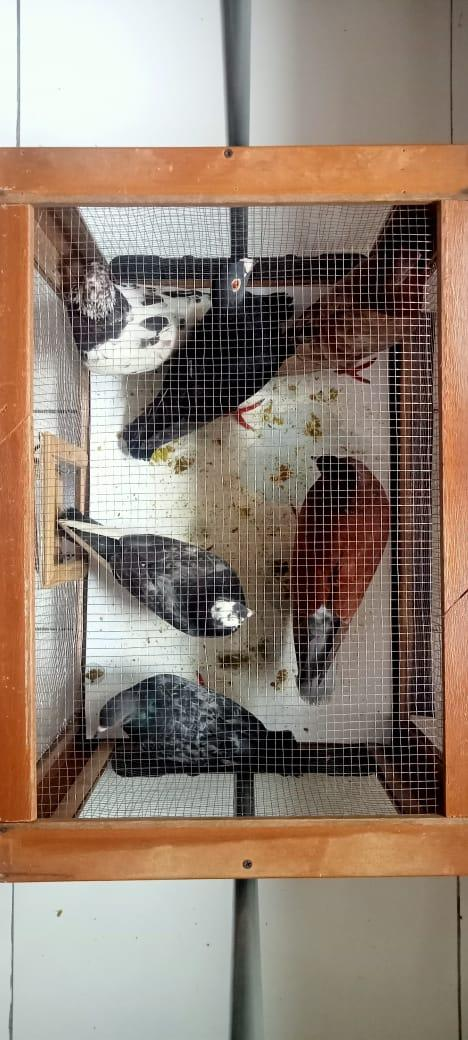Merpati: (119, 258, 288, 462), (59, 507, 262, 636), (292, 454, 391, 704), (93, 674, 302, 772), (279, 248, 427, 378), (67, 259, 215, 378)
